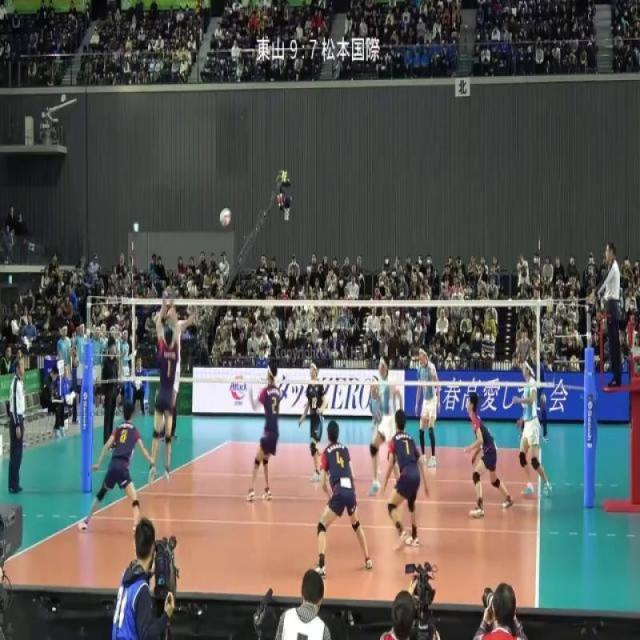volleyball: (219, 206, 232, 227)
